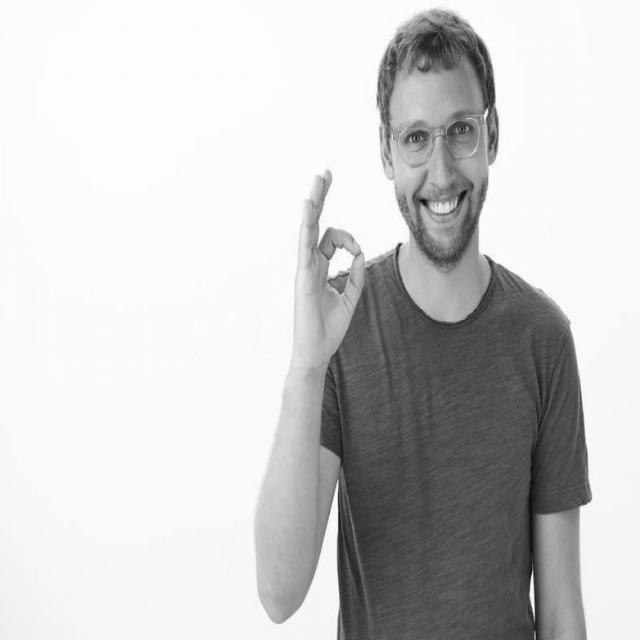perfect: (287, 160, 370, 387)
